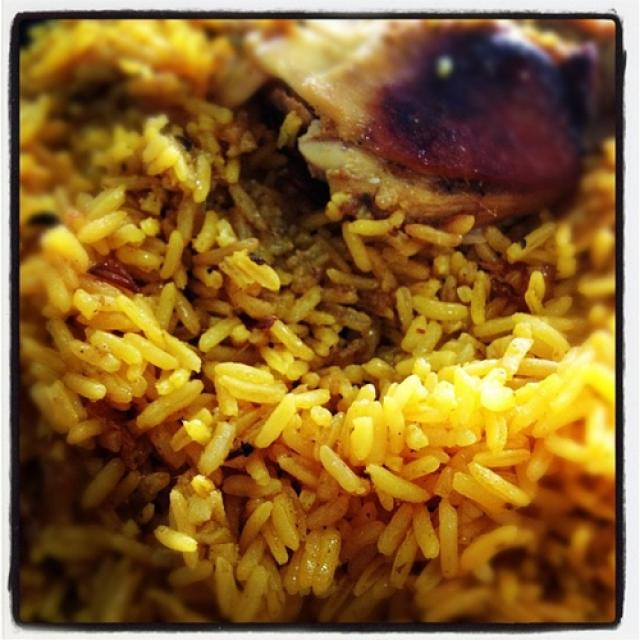米饭主食: (22, 23, 608, 611)
